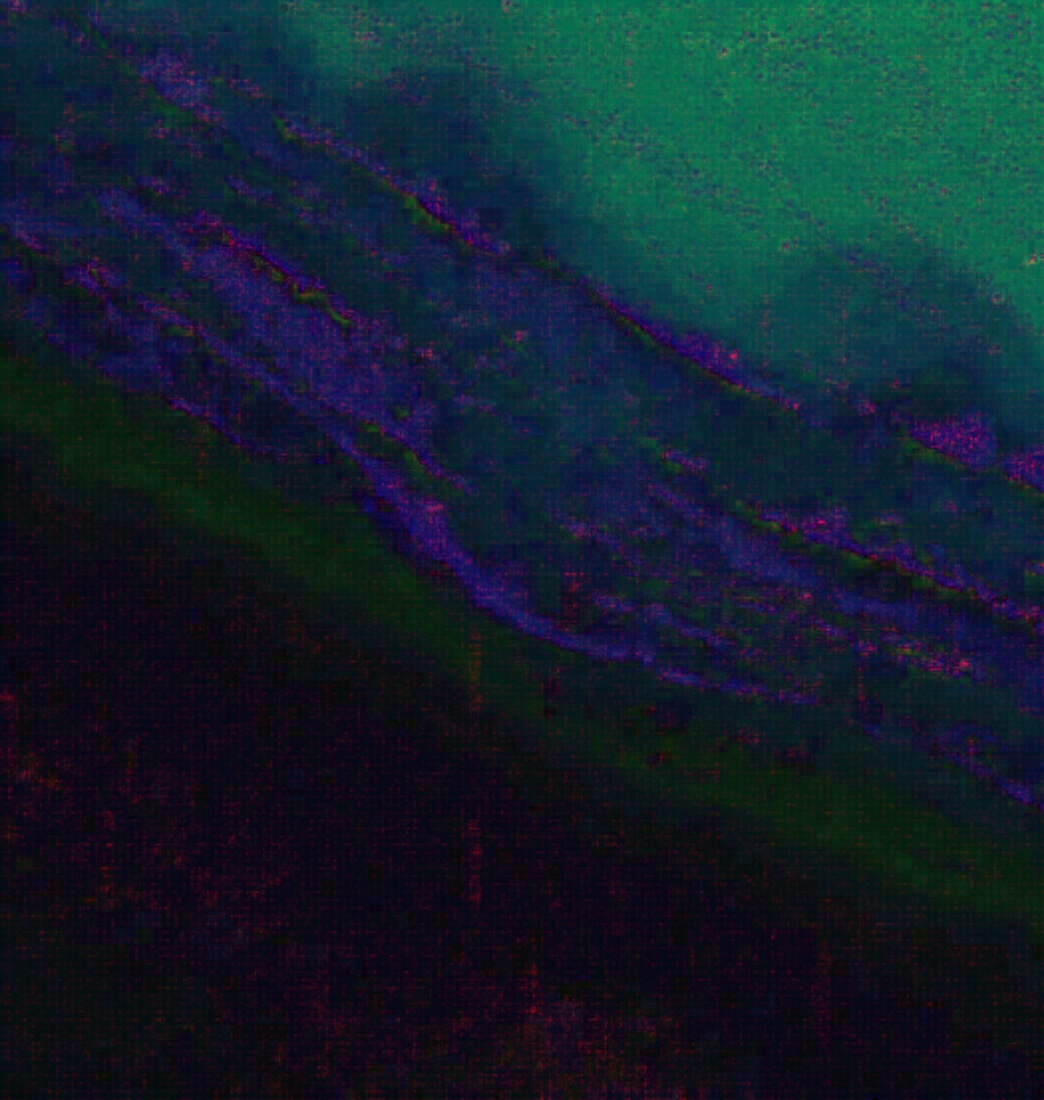rip_current: (349, 220, 660, 594)
